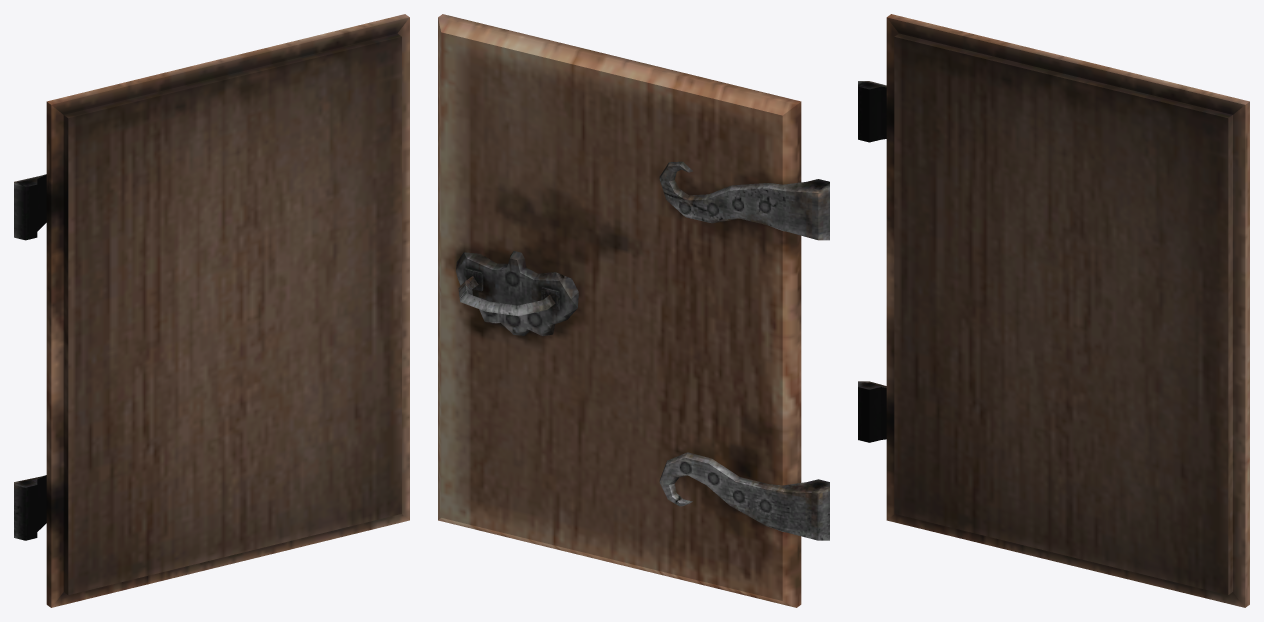
File: work_desk_door.dae
3 views of the same model, side by side, from view 1: azimuth 30°, elevation 25°; view 2: azimuth 150°, elevation 25°; view 3: azimuth 330°, elevation 25° (orthographic).
Visible parts, largest first — view 1: work_desk_door_mesh; view 2: work_desk_door_mesh; view 3: work_desk_door_mesh.
Part boxes in pixels (box(x1,y1,x2,y2)): work_desk_door_mesh: box(14, 14, 409, 607); work_desk_door_mesh: box(438, 14, 829, 607); work_desk_door_mesh: box(858, 14, 1249, 607).
Size of the model in its own units: 0.5794 by 0.1198 by 0.7114.
1 material, 1 textured.
